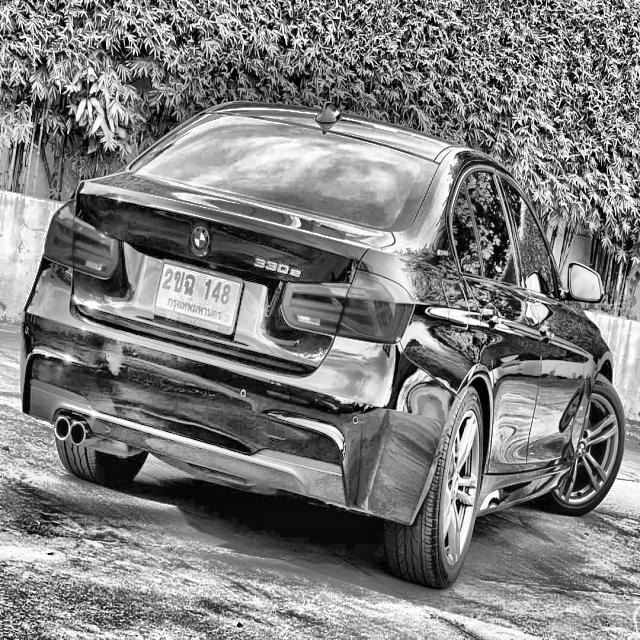license-plate: (150, 255, 246, 342)
